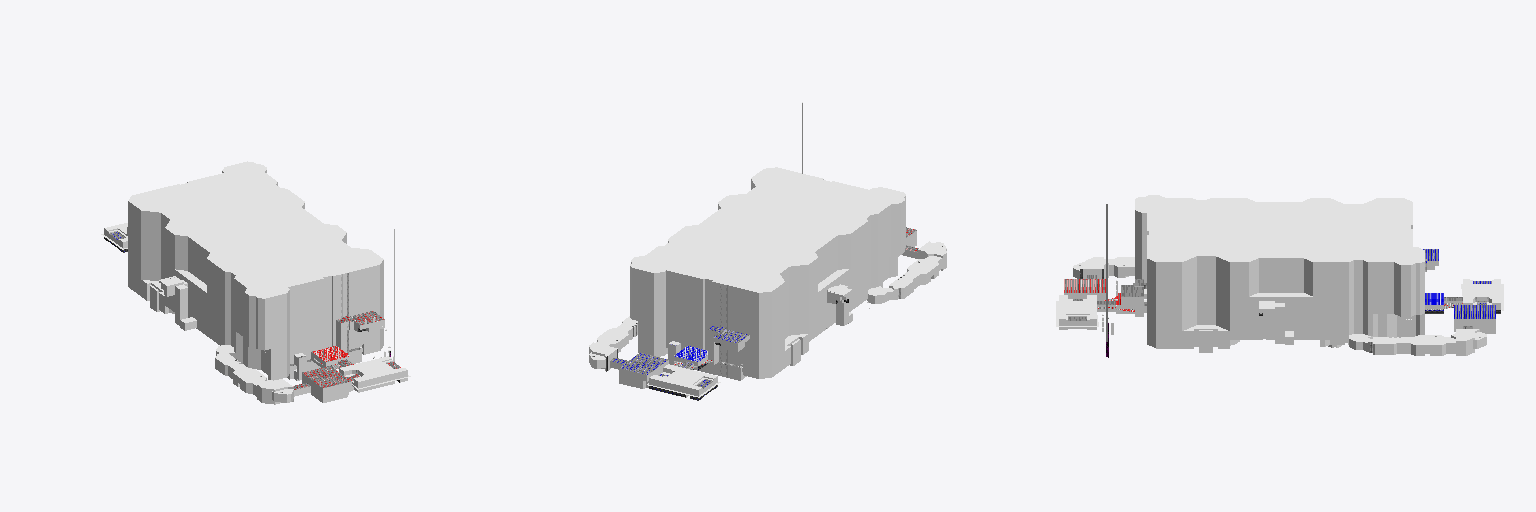
The picture shows the model from 3 angles: view 1: azimuth 30°, elevation 25°; view 2: azimuth 150°, elevation 25°; view 3: azimuth 270°, elevation 25°; orthographic projection.
Parts seen in each view (by area): view 1: MAPF6; view 2: MAPF6; view 3: MAPF6.
Part boxes in pixels (x1,y1,x2,y2): MAPF6: (101,161,410,404); MAPF6: (589,102,946,400); MAPF6: (1056,195,1503,357).
Bounding box in the file's own units: 5632 × 4608 × 12032.
Materials: 71 (18 with a texture image).